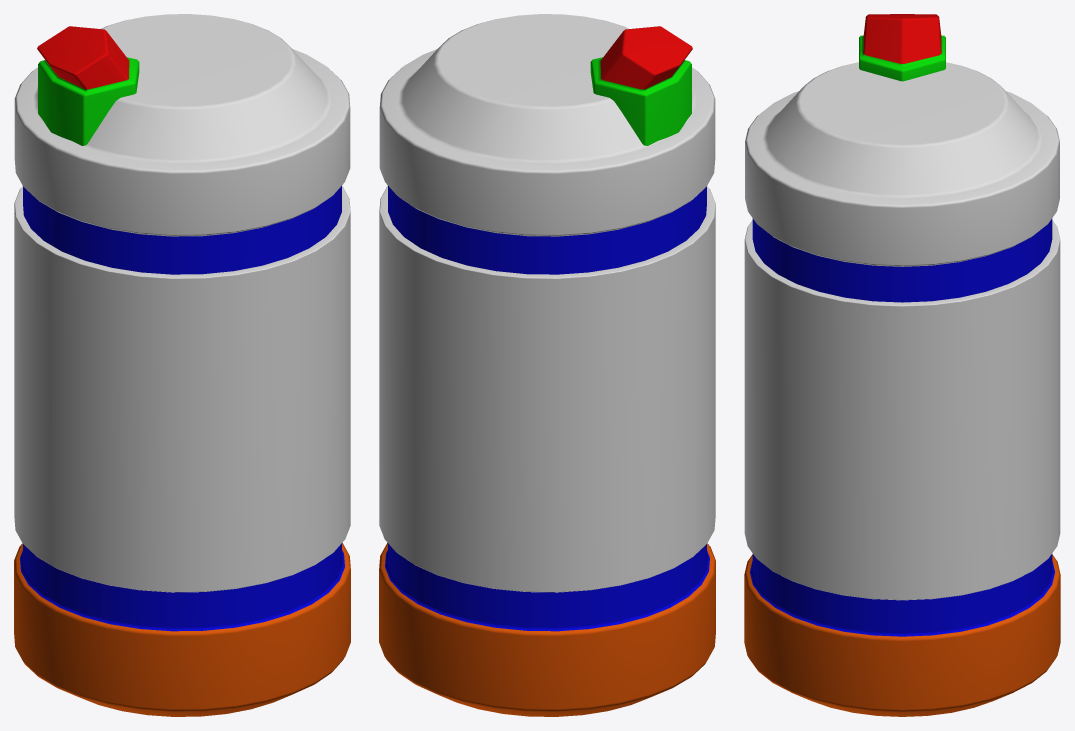
File: SM_SodaCan.fbx
3 renders of one model, left to right at view 1: azimuth 30°, elevation 25°; view 2: azimuth 150°, elevation 25°; view 3: azimuth 270°, elevation 25°, orthographic. The views are drawn at different scales.
Parts seen in each view (by area): view 1: CanBase.001, CanBase, CanLid; view 2: CanBase.001, CanBase, CanLid; view 3: CanBase, CanBase.001, CanLid.
Part boxes in pixels (bbox=[...]): CanBase.001: bbox=[14, 185, 350, 592]; CanBase: bbox=[14, 14, 350, 716]; CanLid: bbox=[37, 26, 139, 145]; CanBase.001: bbox=[379, 185, 715, 592]; CanBase: bbox=[379, 14, 715, 716]; CanLid: bbox=[590, 26, 692, 145]; CanBase: bbox=[744, 62, 1060, 716]; CanBase.001: bbox=[744, 220, 1060, 600]; CanLid: bbox=[859, 14, 945, 81].
Size of the model in its own units: 6.92 by 6.92 by 14.7.
